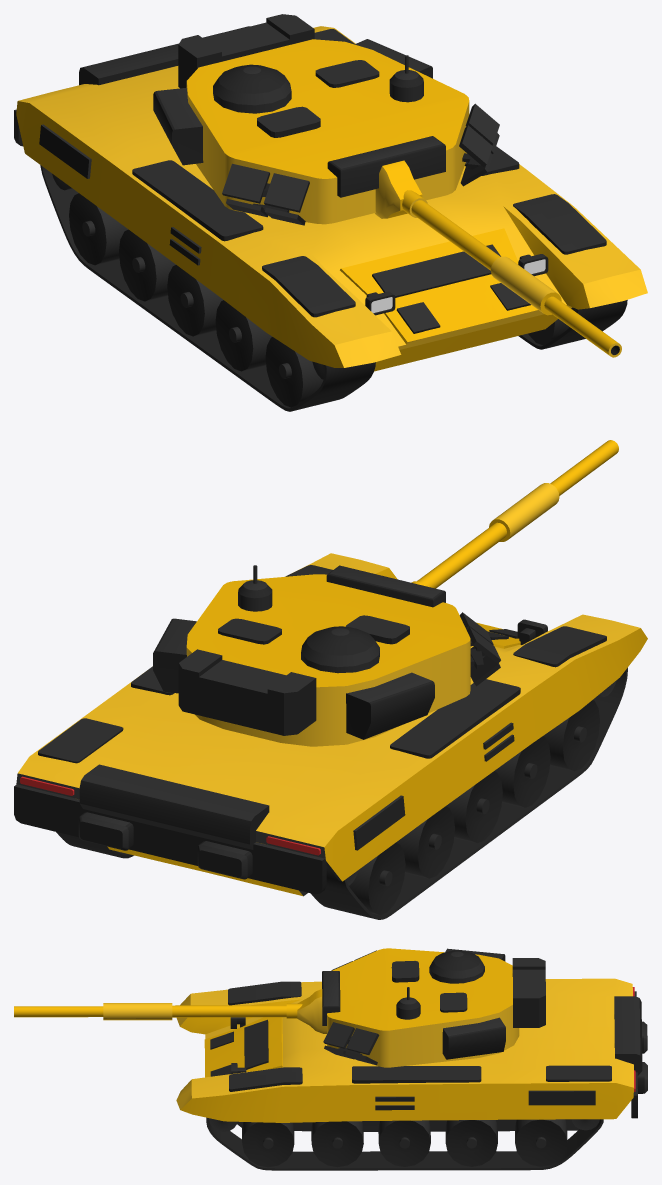
File: Car_39.fbx
The picture shows the model from 3 angles, top to bottom: view 1: azimuth 30°, elevation 25°; view 2: azimuth 150°, elevation 25°; view 3: azimuth 270°, elevation 25°; orthographic projection. The views are drawn at different scales.
Parts seen in each view (by area): view 1: Car_39; view 2: Car_39; view 3: Car_39.
Boxes of the visible parts, x1,y1,x2,y2 form: Car_39: (14, 14, 647, 411); Car_39: (14, 440, 647, 919); Car_39: (14, 948, 647, 1170).
Bounding box in the file's own units: 3.97 × 2.68 × 9.81.
